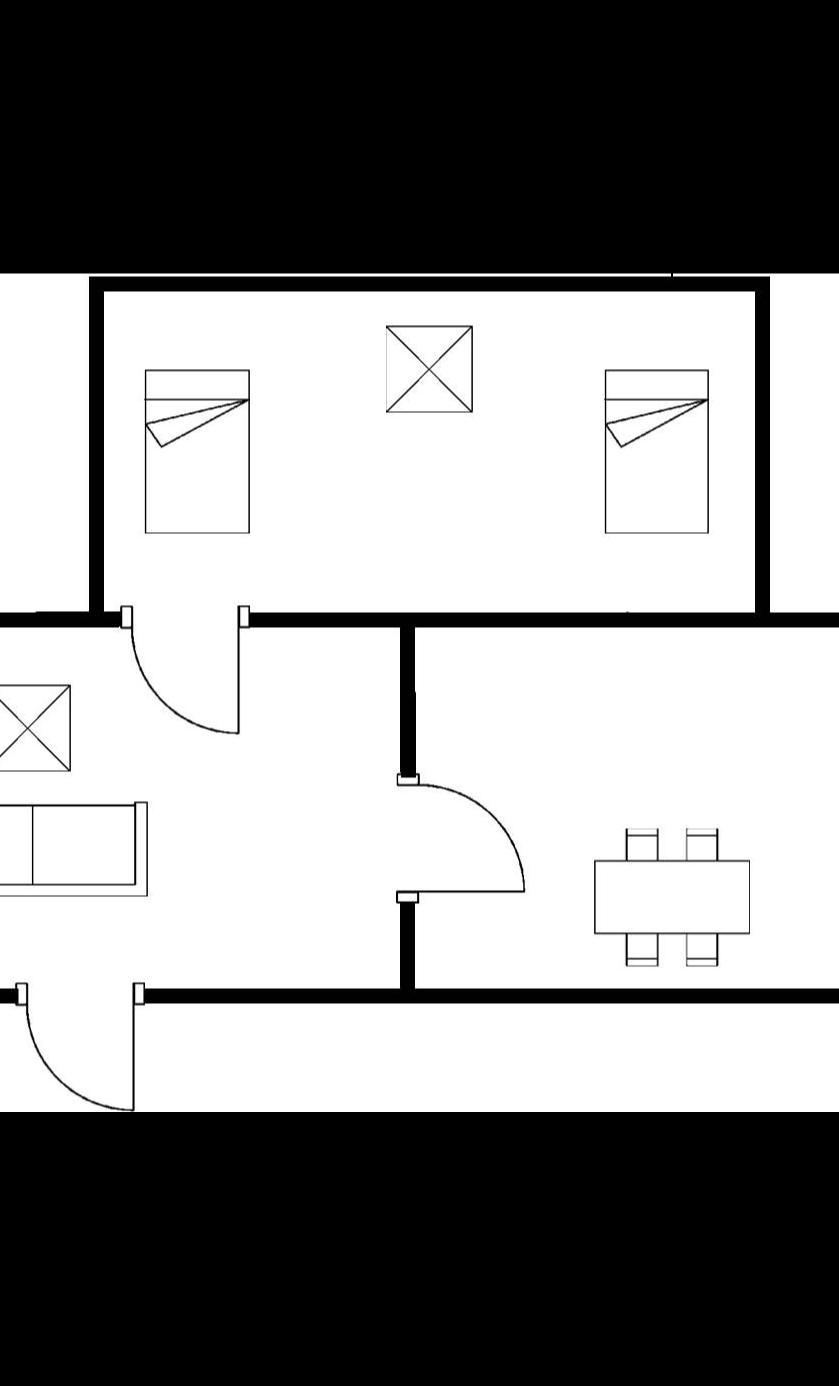bed: (136, 360, 257, 540), (596, 360, 718, 538)
dining_table: (586, 820, 764, 970)
sofa: (0, 793, 156, 906)
